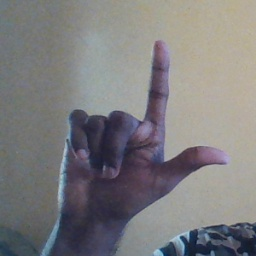L: (53, 37, 233, 222)
